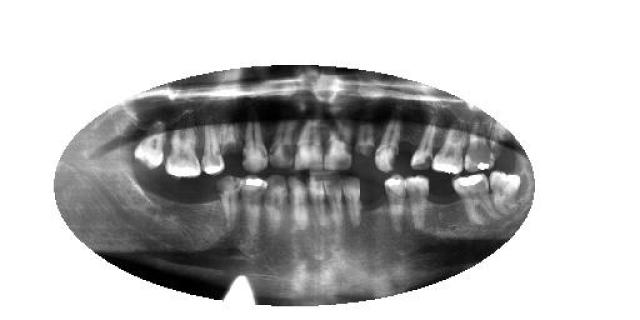Cavity: (464, 120, 495, 172), (352, 120, 377, 164), (220, 120, 244, 162)
Fillings: (452, 172, 498, 226), (432, 120, 468, 172), (166, 128, 202, 178), (465, 120, 495, 172), (242, 175, 266, 239), (201, 125, 224, 176)
